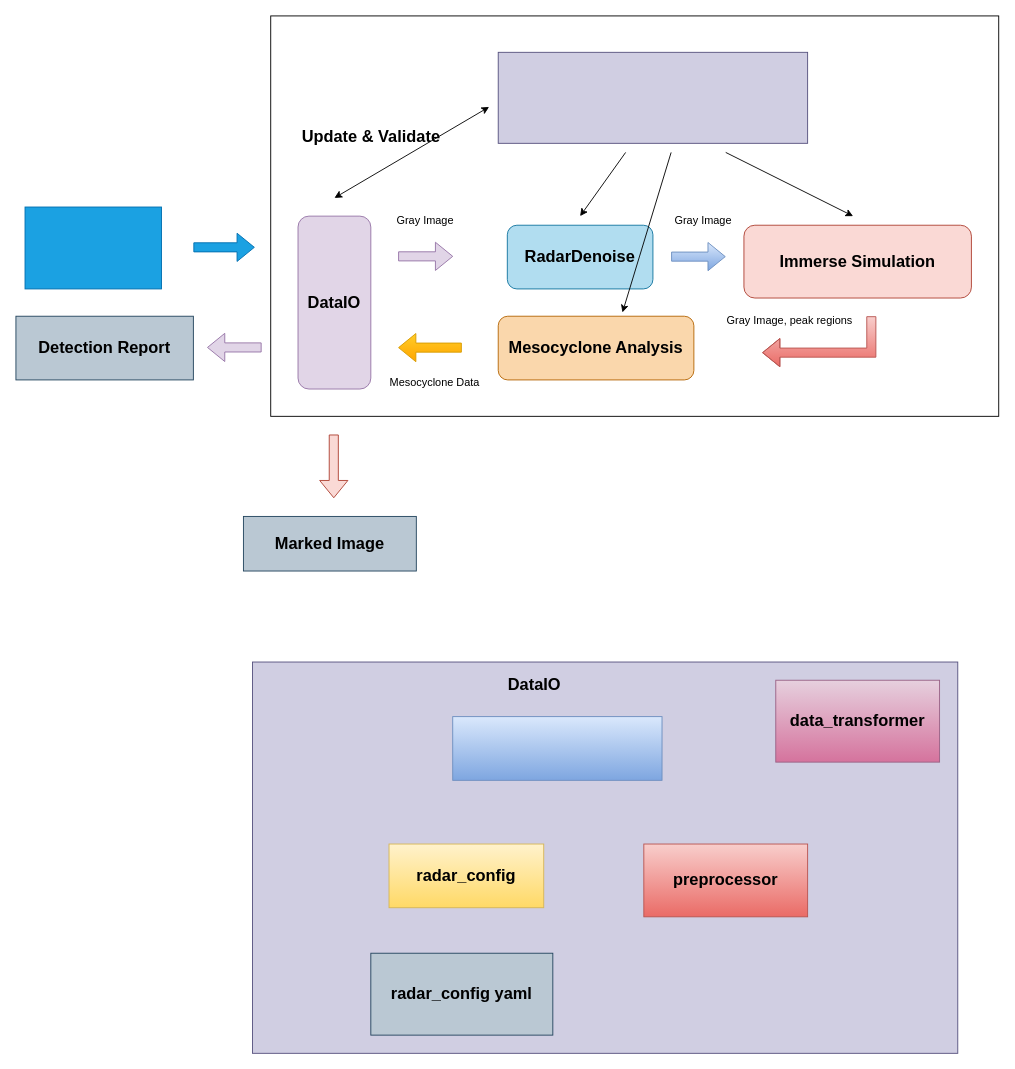
The diagram is 1015 pixels wide and 1069 high, and some of its shapes have lost their labels. Here are the shapes that lost their labels. From the top down, the centre of each, then its label:
the point at 652,97: Radar Image Constants
the point at 93,247: Original Radar Image
the point at 557,748: consts
